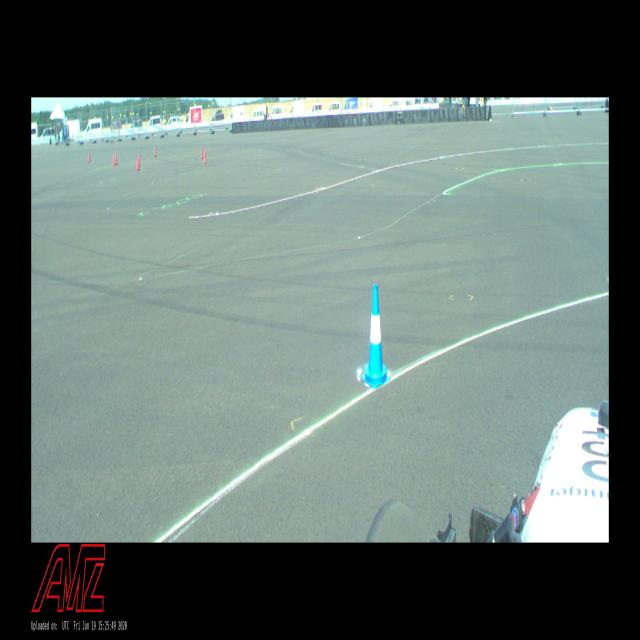blue_cone: (360, 284, 390, 389)
unknown_cone: (136, 157, 140, 171), (201, 146, 204, 159), (204, 150, 206, 164), (138, 154, 140, 167), (113, 154, 115, 165), (115, 154, 117, 165), (88, 153, 90, 163), (154, 147, 156, 156)
